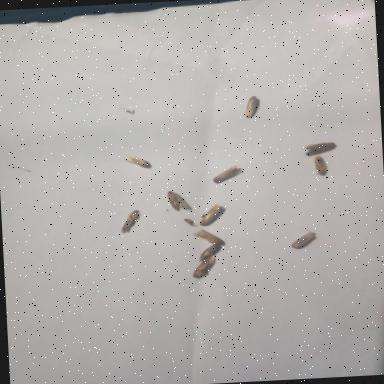pbw: (210, 162, 244, 184), (198, 202, 227, 226), (192, 226, 226, 246), (119, 207, 144, 233), (188, 242, 222, 261), (166, 188, 192, 212), (192, 254, 218, 278), (302, 139, 338, 155), (290, 231, 317, 248), (243, 94, 259, 118), (128, 154, 154, 168), (310, 156, 328, 176)
